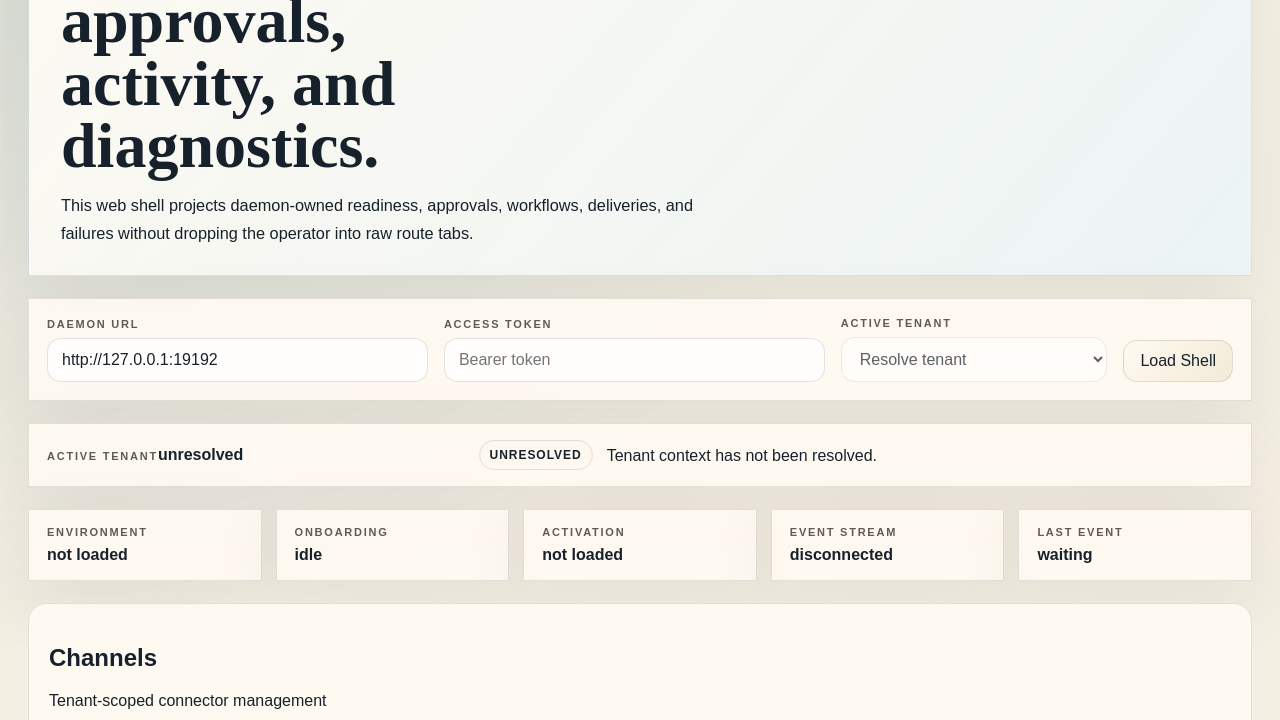
Test: App › loads candidate discovery review state and suppresses discovered candidates
The image size is (1280, 720).
(page scrolled)
Type "token" into the password field labelled "Access Token" at (634, 360), box [444,338,825,382]
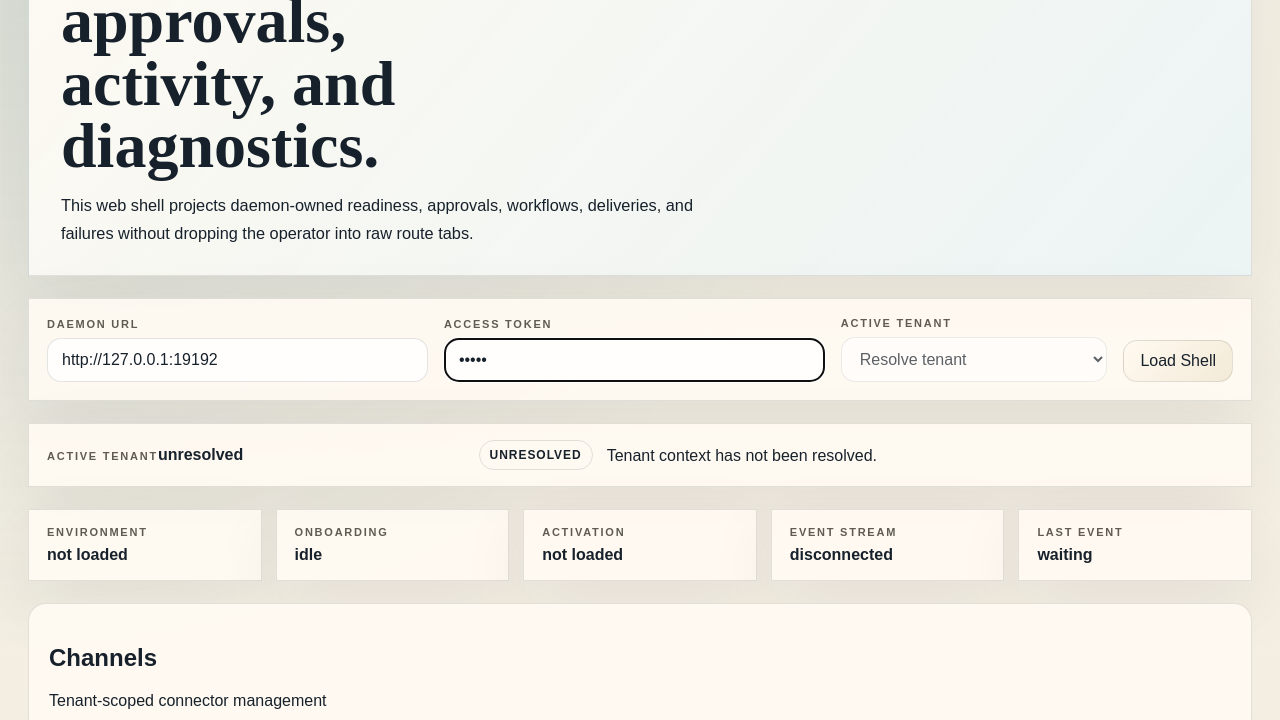
Click the button "Load Shell" at (1178, 362), box [1123,340,1233,382]
(page scrolled)
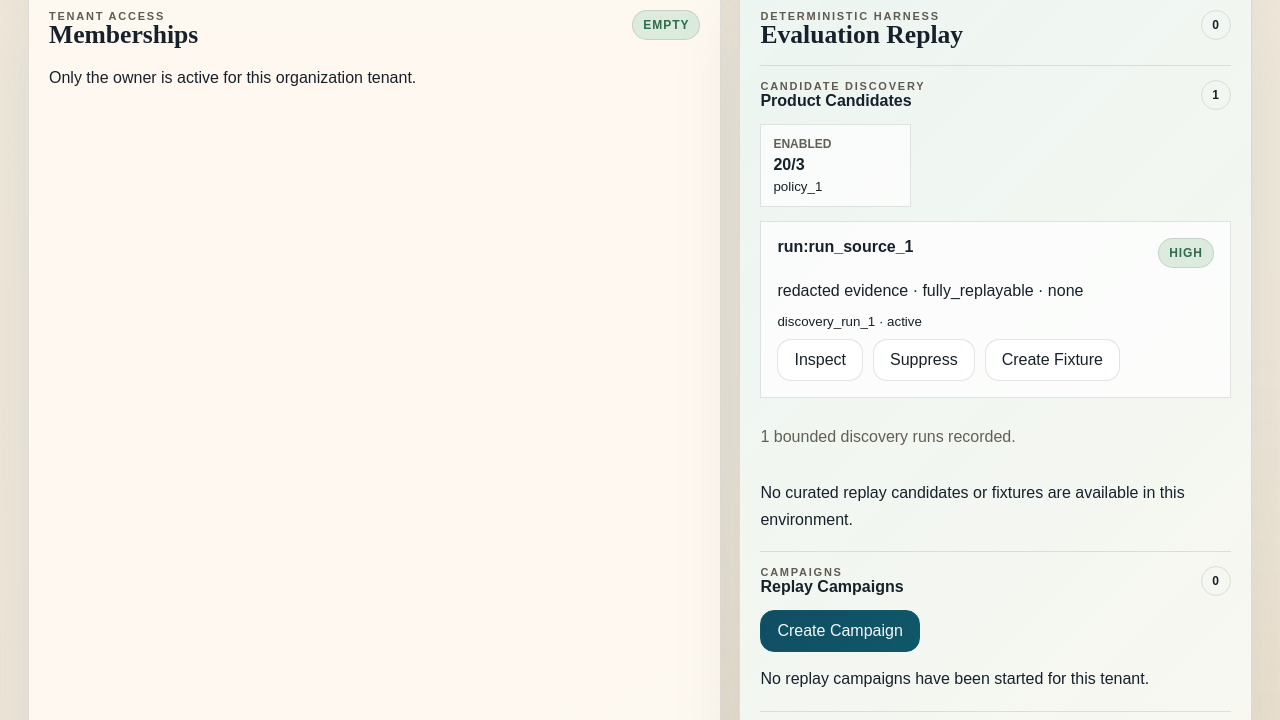
Result: the text "policy_1" is shown at [773,179,822,194]
Result: the text "run:run_source_1" is shown at [777,238,913,256]
Result: the text "redacted evidence · fully_replayable · none" is shown at [777,282,1083,299]
Click the button "Suppress" at (924, 360), box [873,340,975,382]
(page scrolled)
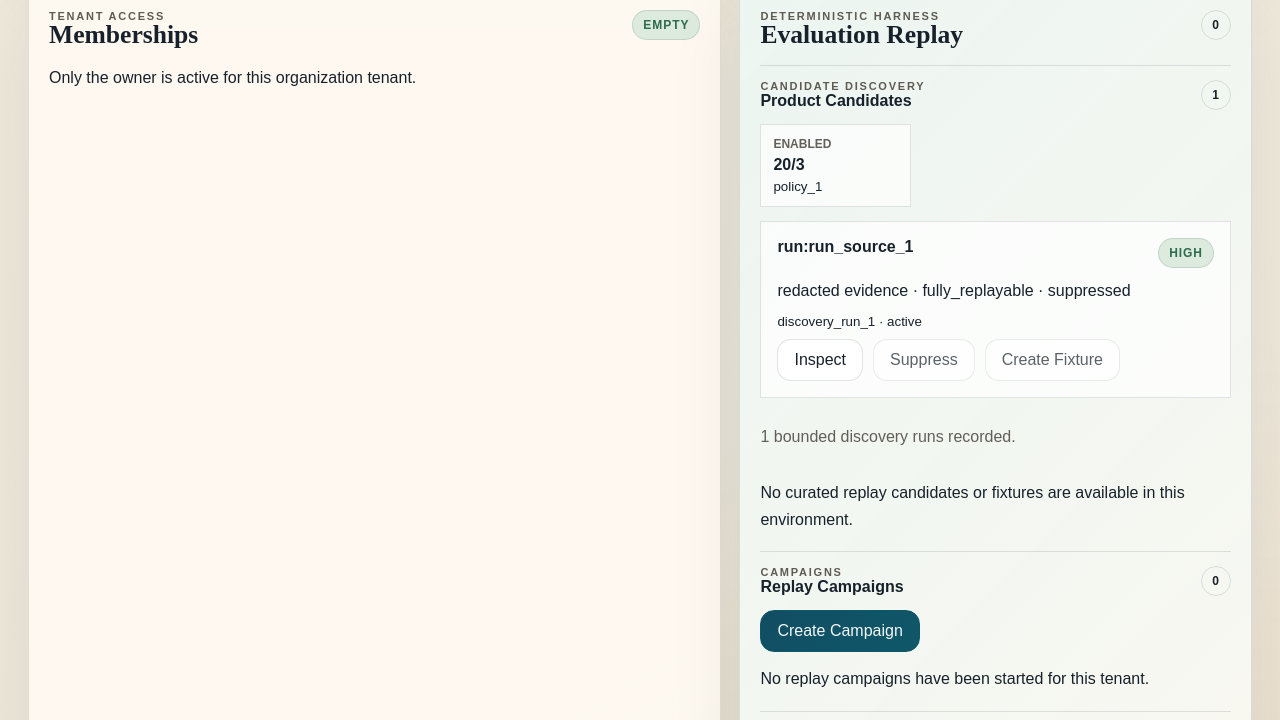
Result: the text "redacted evidence · fully_replayable · suppressed" is shown at [777,282,1130,299]
